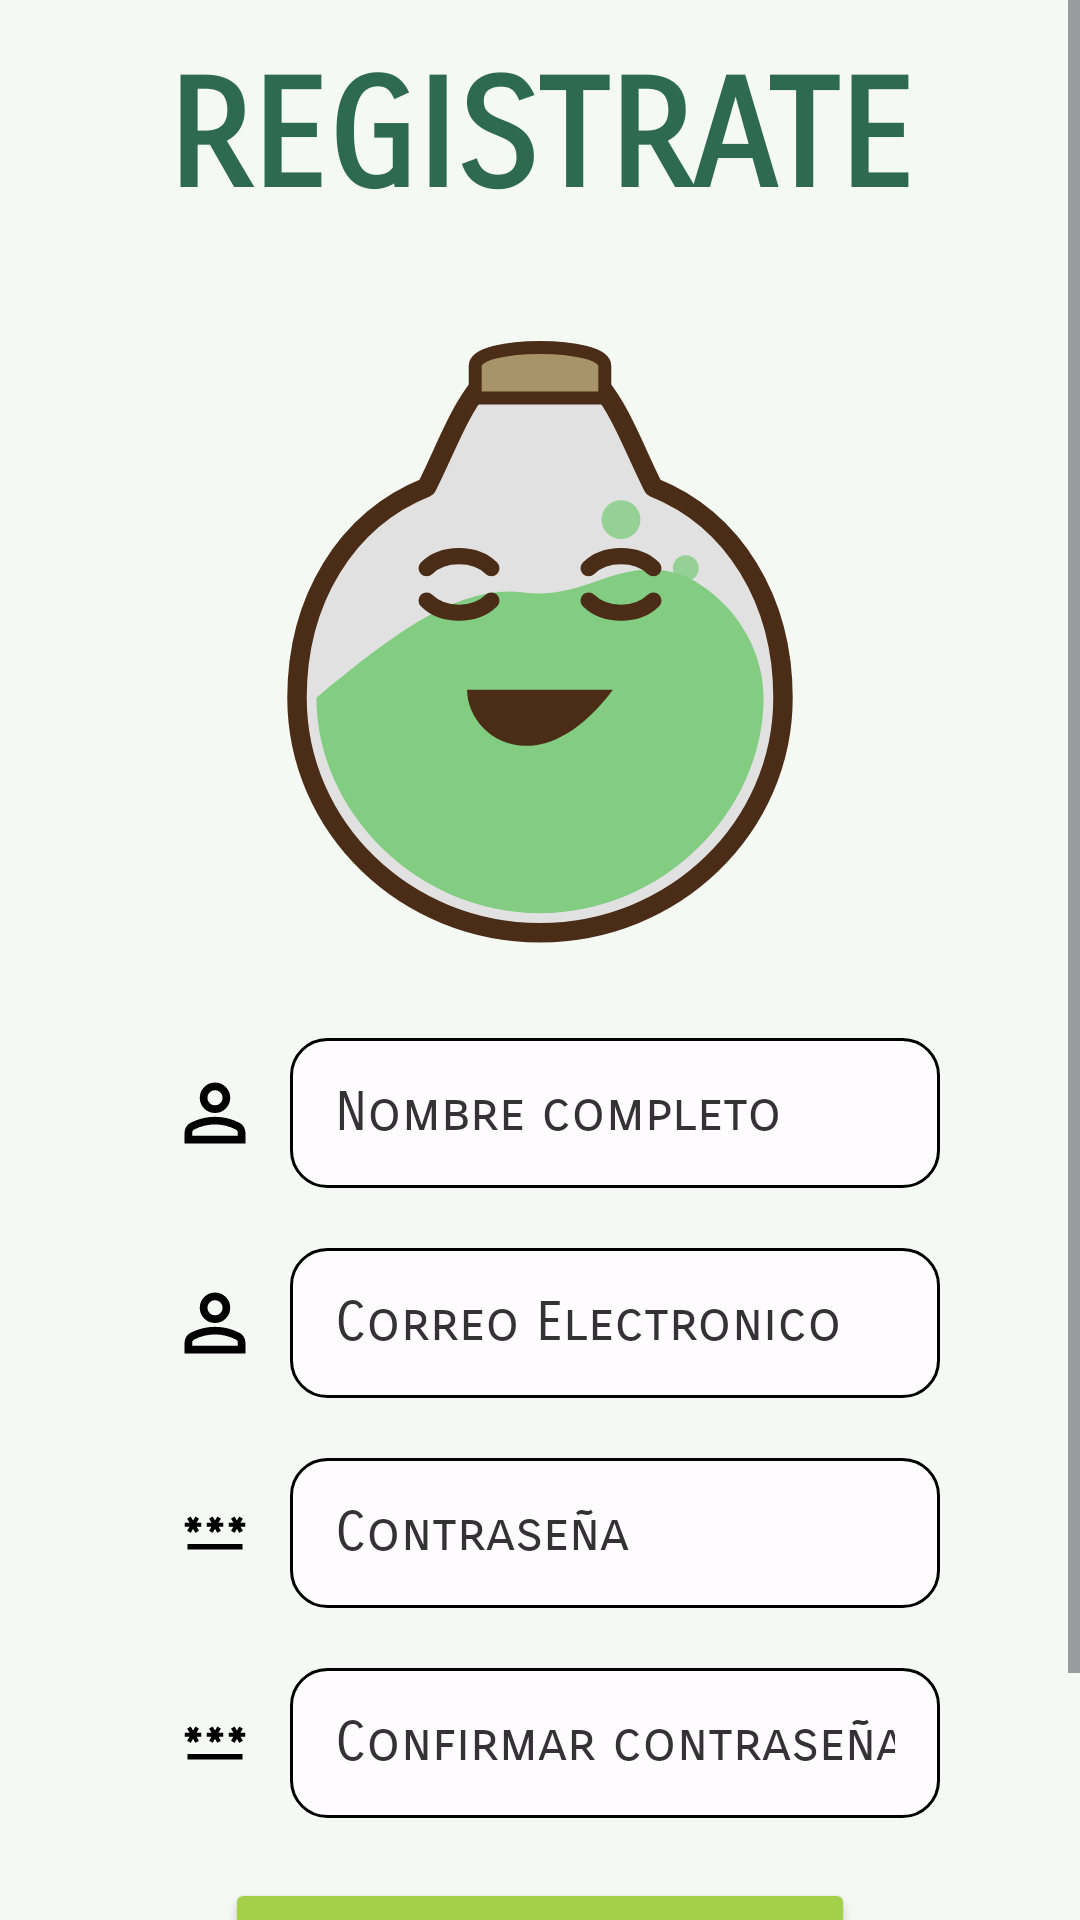

Screen size 1080px×1920px. Icon name, then its box in pixels as (x1, y1, x2, y2):
password login: (184, 1516, 246, 1550), (184, 1726, 246, 1760)
user login: (184, 1082, 246, 1144), (184, 1292, 246, 1354)
